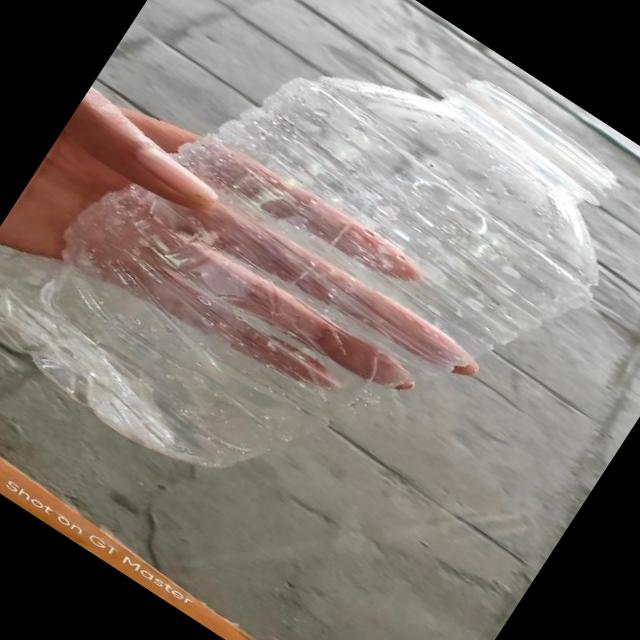Galon: (0, 0, 637, 597)
